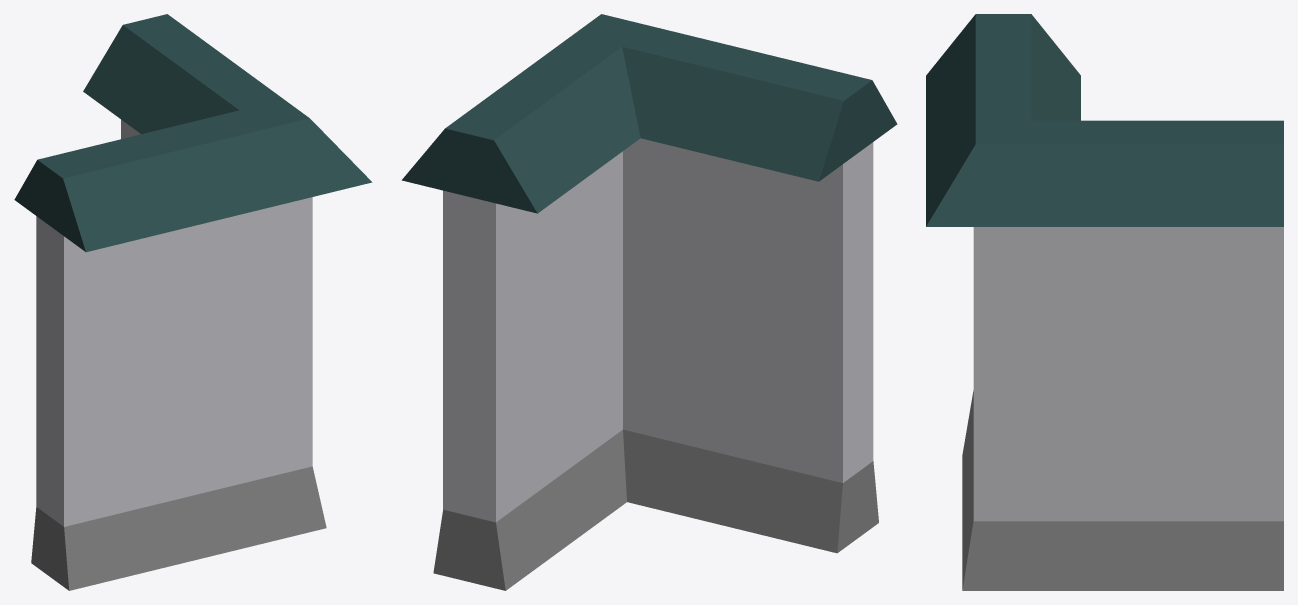
The model's file is Asian_Prop_Building_Fence_Wall_Simple_Corner_02.FBX.
3 views of the same model, side by side, from view 1: azimuth 30°, elevation 25°; view 2: azimuth 150°, elevation 25°; view 3: azimuth 270°, elevation 25° (orthographic). The views are drawn at different scales.
Parts seen in each view (by area): view 1: Asian_Prop_Building_Fence_Wall_Simple_Corner_02; view 2: Asian_Prop_Building_Fence_Wall_Simple_Corner_02; view 3: Asian_Prop_Building_Fence_Wall_Simple_Corner_02.
Boxes of the visible parts, x1,y1,x2,y2 form: Asian_Prop_Building_Fence_Wall_Simple_Corner_02: [14, 14, 372, 590]; Asian_Prop_Building_Fence_Wall_Simple_Corner_02: [401, 14, 897, 590]; Asian_Prop_Building_Fence_Wall_Simple_Corner_02: [926, 14, 1283, 590].
Size of the model in its own units: 2979 by 4051 by 2979.
